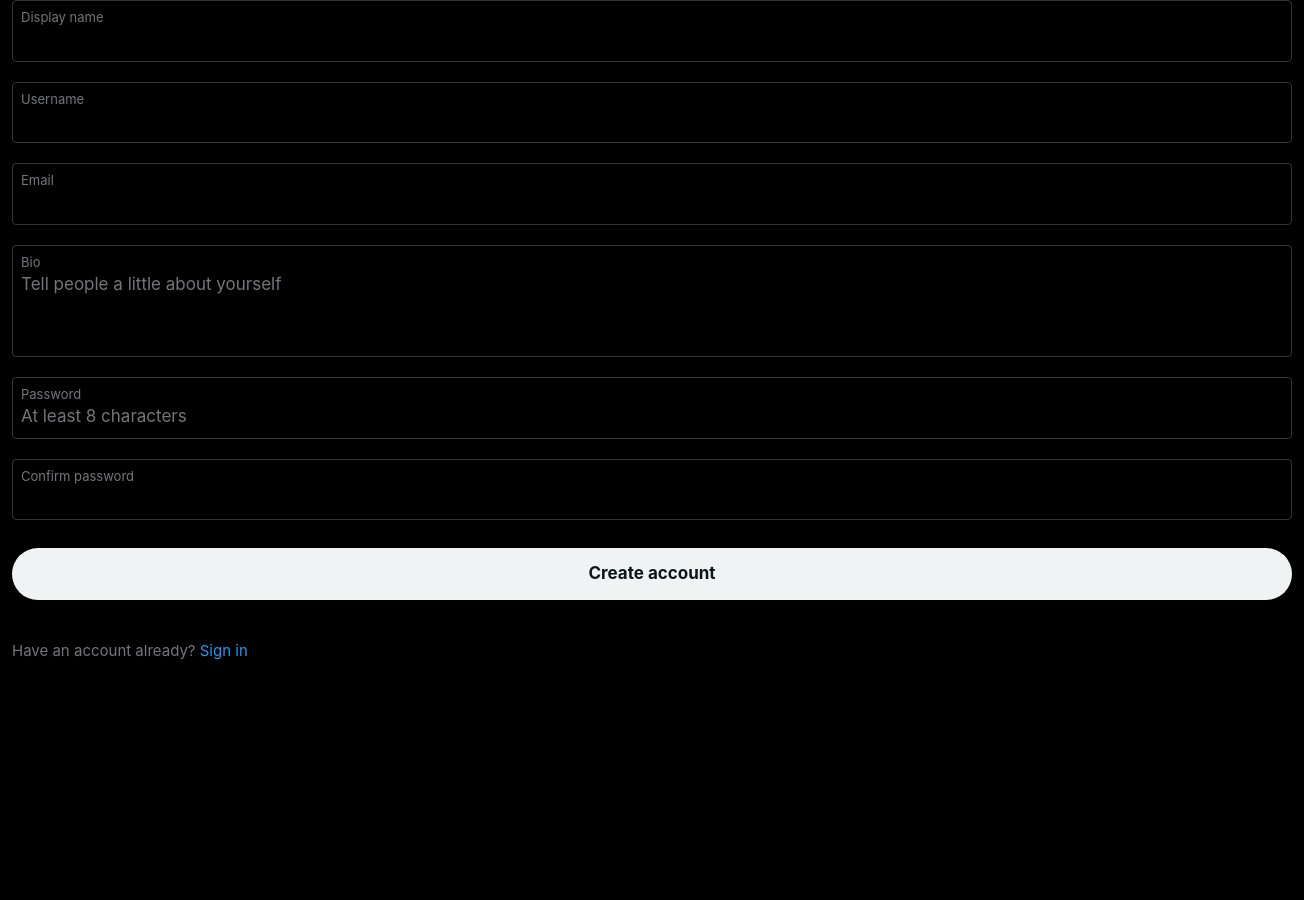
Test: RegisterForm › shows the server's field errors next to each field
Click the button "Create account" at (652, 574), box [12,548,1292,600]
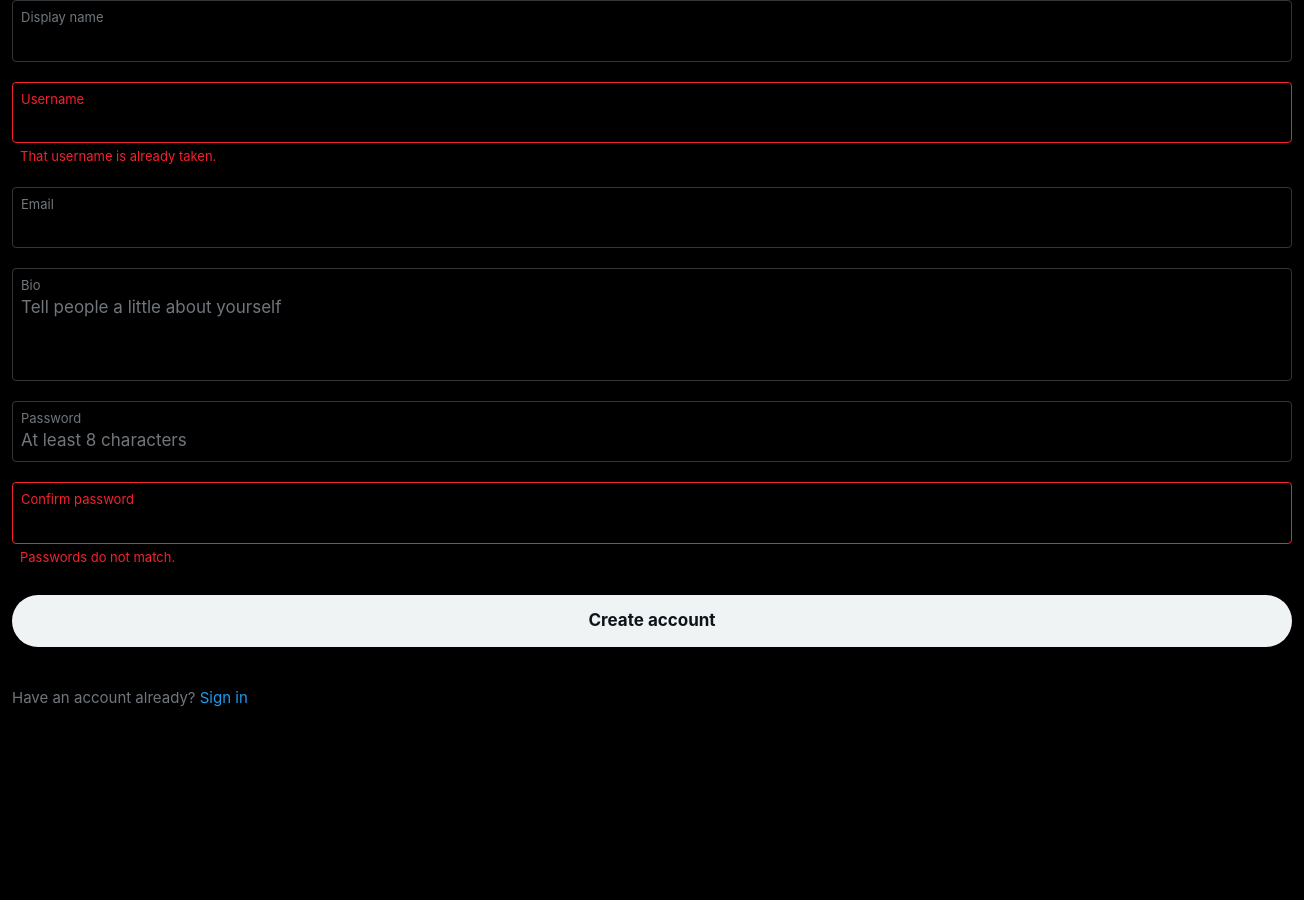
expect the text "That username is already taken." is shown: met, box [20,148,216,164]
